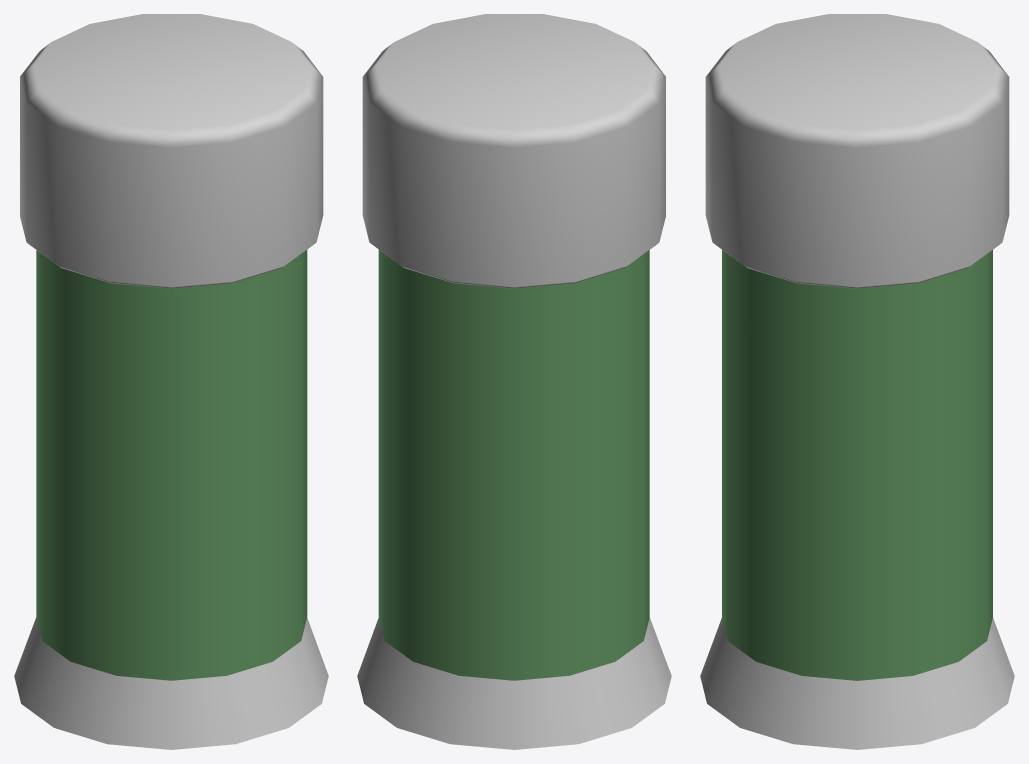
Rendered from misk_capsule2.fbx.
3 views of the same model, side by side, from view 1: azimuth 30°, elevation 25°; view 2: azimuth 150°, elevation 25°; view 3: azimuth 270°, elevation 25° (orthographic).
Visible parts, largest first — view 1: parcelLarge_mesh; view 2: parcelLarge_mesh; view 3: parcelLarge_mesh.
Boxes of the visible parts, x1,y1,x2,y2 form: parcelLarge_mesh: (14, 14, 328, 749); parcelLarge_mesh: (357, 14, 671, 749); parcelLarge_mesh: (700, 14, 1014, 749).
Size of the model in its own units: 0.2067 by 0.4459 by 0.2078.
